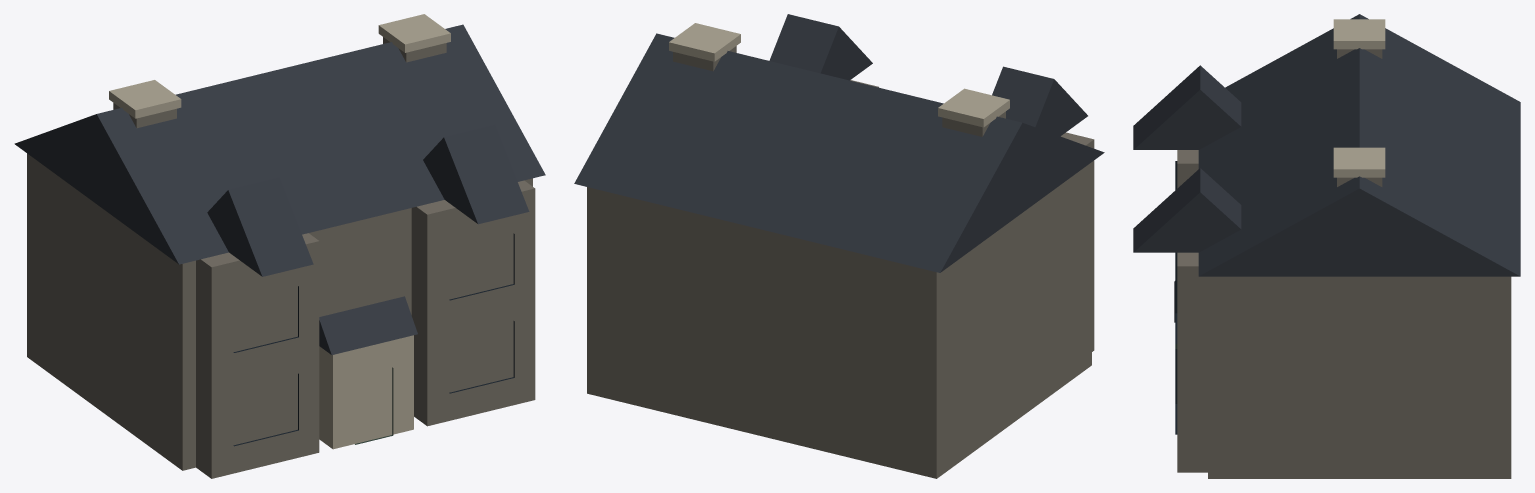
The model's file is building_westyork_s1_millowner_manor.glb.
The picture shows the model from 3 angles, left to right: view 1: azimuth 30°, elevation 25°; view 2: azimuth 150°, elevation 25°; view 3: azimuth 270°, elevation 25°; orthographic projection. The views are drawn at different scales.
Visible parts, largest first — view 1: building_westyork_s1_millowner_manor; view 2: building_westyork_s1_millowner_manor; view 3: building_westyork_s1_millowner_manor.
Part boxes in pixels (x1=…): building_westyork_s1_millowner_manor: x1=14, y1=14, x2=545, y2=478; building_westyork_s1_millowner_manor: x1=574, y1=14, x2=1104, y2=478; building_westyork_s1_millowner_manor: x1=1133, y1=14, x2=1520, y2=478.
Bounding box in the file's own units: 13.6 × 10.95 × 12.75.
1 material, 1 textured.
